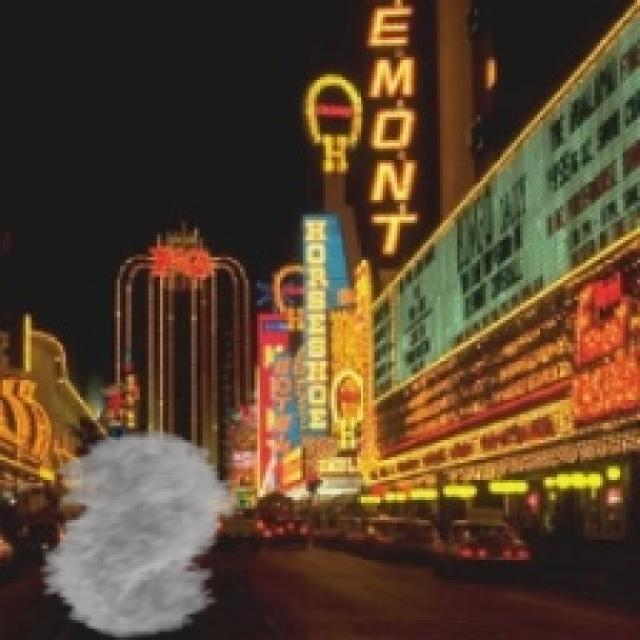smoke: (14, 429, 260, 637)
